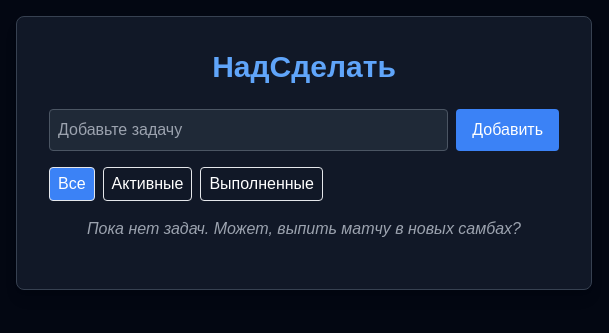
Scenario: ToDo App › Удаление задачи
This screenshot has width=609, height=333.
Type "Удаляемая задача" into the field with placeholder "Добавьте задачу" at (249,130), box [49,109,448,151]
Then press Enter
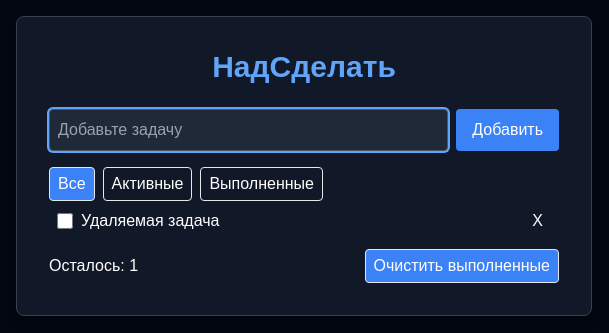
Click the button "X" at (538,221), box [524,209,551,233]
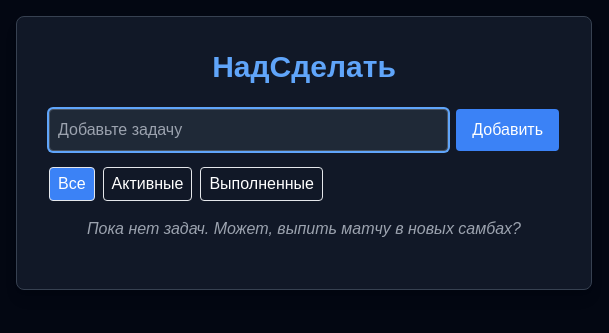
Now the text "Удаляемая задача" is gone
